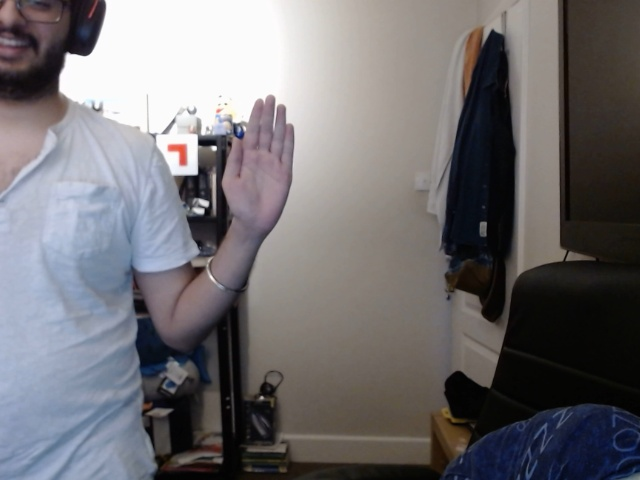Hello: (210, 91, 297, 242)
